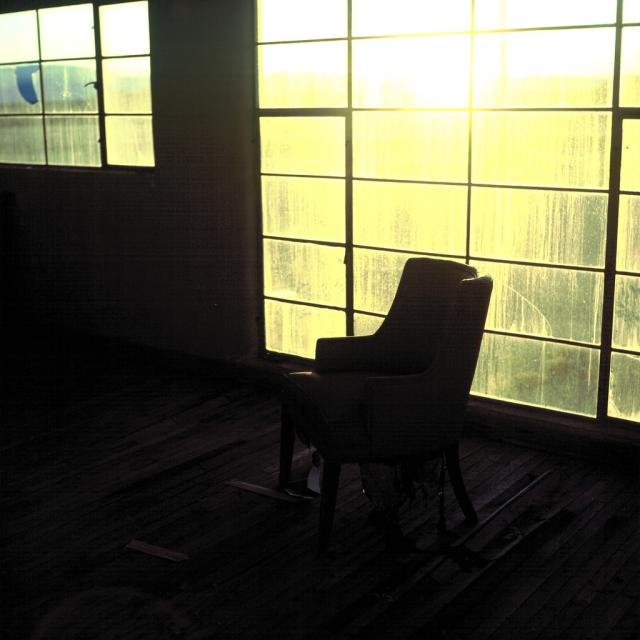chair: (260, 250, 508, 571)
